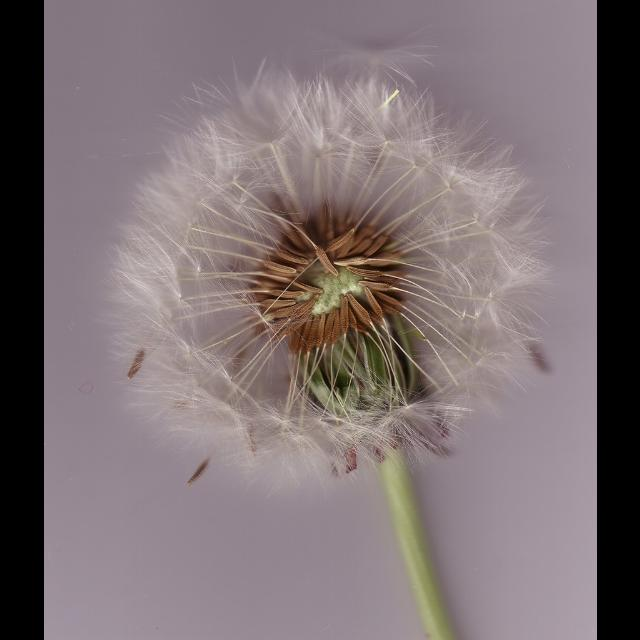Flower: (106, 70, 546, 500)
